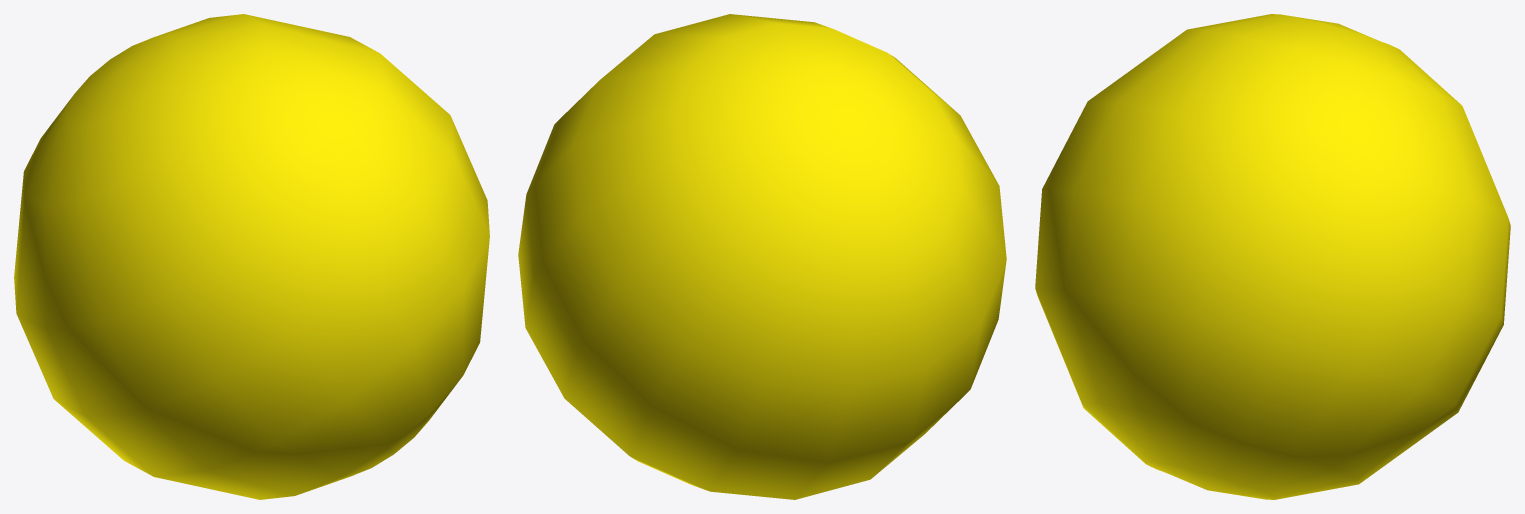
File: Ball.fbx
3 views of the same model, side by side, from view 1: azimuth 30°, elevation 25°; view 2: azimuth 150°, elevation 25°; view 3: azimuth 270°, elevation 25° (orthographic).
Parts seen in each view (by area): view 1: circle; view 2: circle; view 3: circle.
Part boxes in pixels (<box>): circle: <box>14,14,489,499</box>; circle: <box>518,14,1006,499</box>; circle: <box>1035,14,1510,499</box>.
Bounding box in the file's own units: 102 × 102 × 100.
